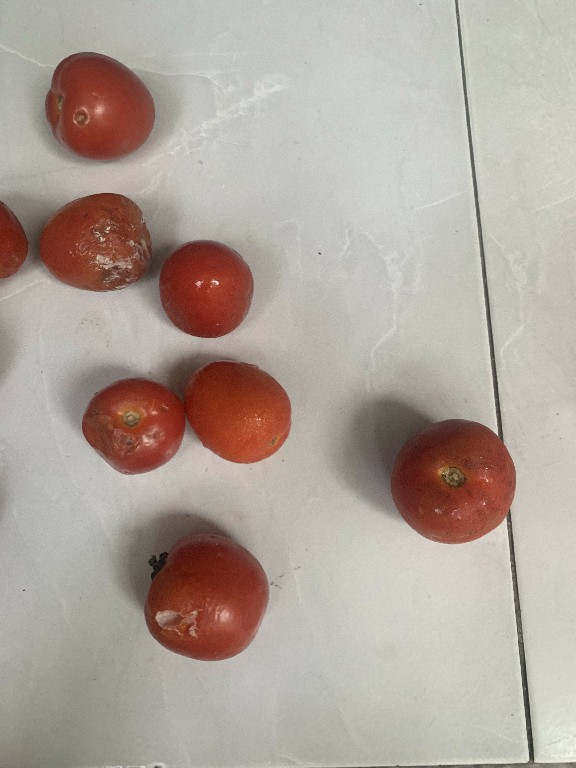NG: (125, 529, 275, 672), (385, 413, 521, 560), (39, 42, 161, 173), (31, 182, 156, 302), (74, 367, 190, 480)
OK: (186, 355, 298, 477), (157, 233, 252, 344)
